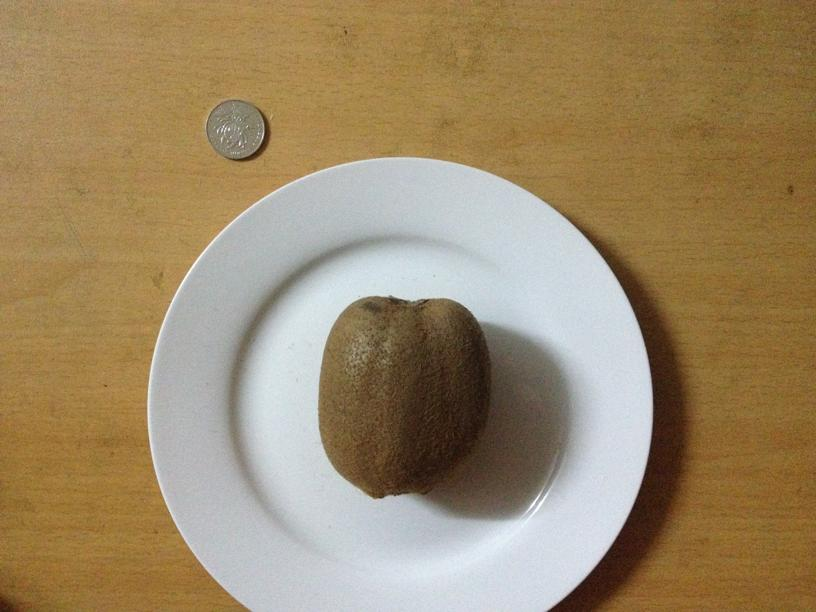coin: (202, 98, 265, 159)
qiwi: (320, 293, 488, 498)
